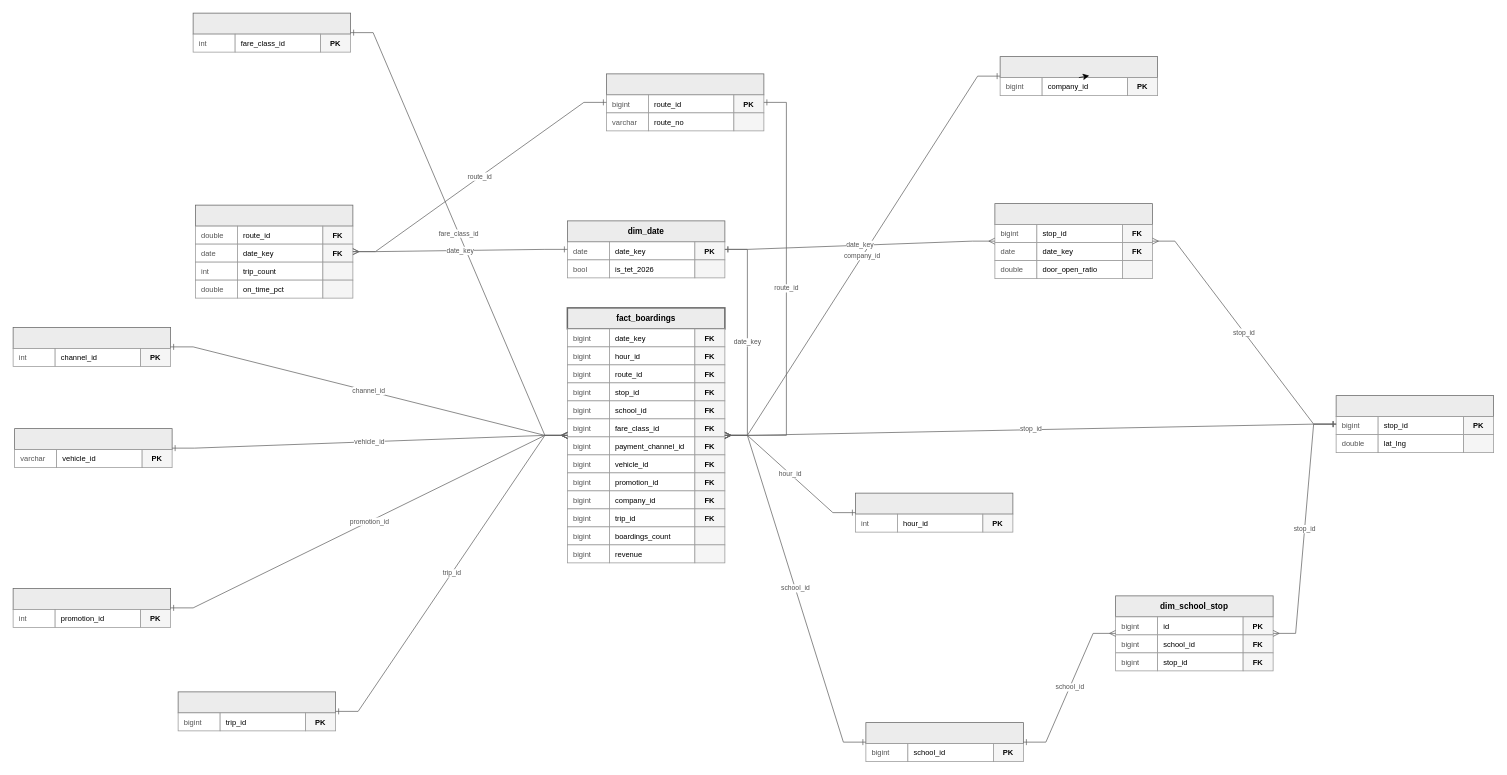
Some shapes in this 1507 by 775 pixel diagram are drawn without their labels. The centre of each missing label's shape, as x and y in pixels:
dim_company: the point at 1078,67
dim_fare_class: the point at 271,23
dim_hour: the point at 934,503
dim_payment_channel: the point at 91,337
dim_promotion: the point at 91,598
dim_route: the point at 685,84
dim_school: the point at 944,733
dim_stop: the point at 1414,406
dim_trip: the point at 256,702
dim_vehicle: the point at 93,439
fact_gps_trips: the point at 274,215
fact_stop_visits: the point at 1073,214
